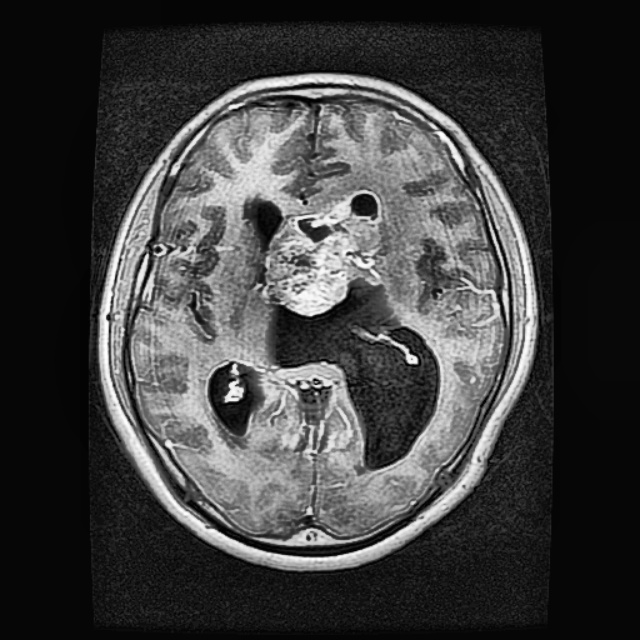Glioma: (260, 189, 385, 317)
